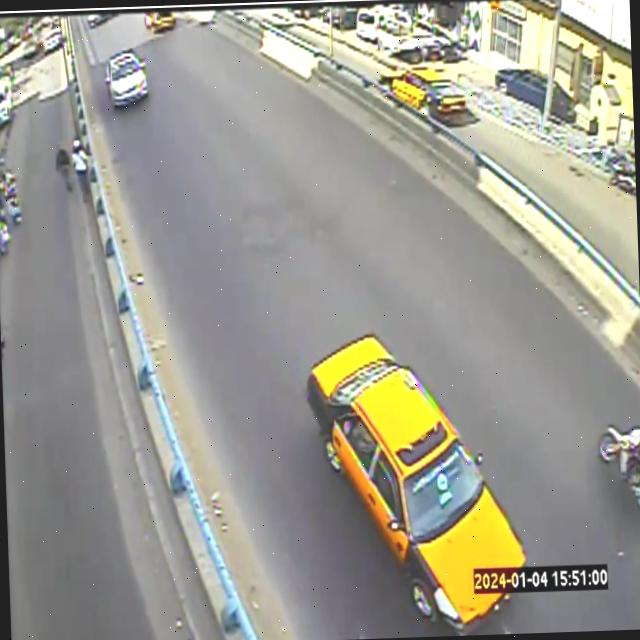car: (306, 335, 526, 634), (379, 67, 466, 120), (104, 48, 148, 107)
